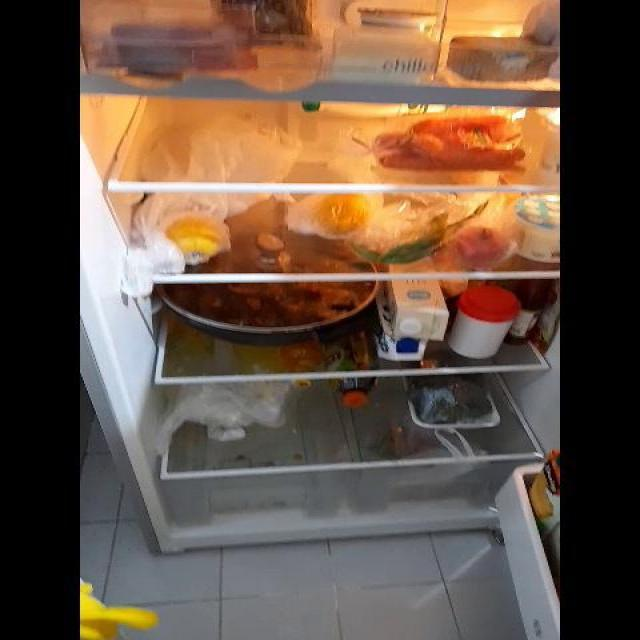bread: (218, 1, 322, 50)
broccoli: (417, 377, 495, 426)
butter: (449, 34, 556, 79)
carrot: (372, 120, 525, 167)
cheese: (325, 35, 439, 79)
green chilies: (363, 225, 452, 262)
juice: (530, 452, 558, 526)
lemon: (164, 214, 228, 259), (316, 193, 372, 233)
milk: (376, 280, 445, 357), (302, 97, 450, 116)
salami: (108, 16, 235, 51)
tomato: (451, 223, 509, 266)
yoghurt: (511, 193, 561, 257), (361, 8, 443, 36)
